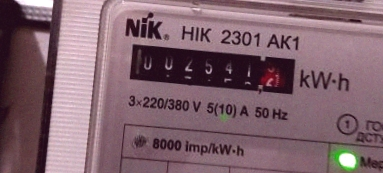0: (140, 49, 155, 71), (161, 49, 175, 71)
1: (242, 55, 255, 79)
2: (181, 50, 197, 73)
4: (222, 53, 235, 75)
5: (201, 52, 216, 76)
6: (263, 73, 275, 86)
screen: (115, 30, 309, 103)
